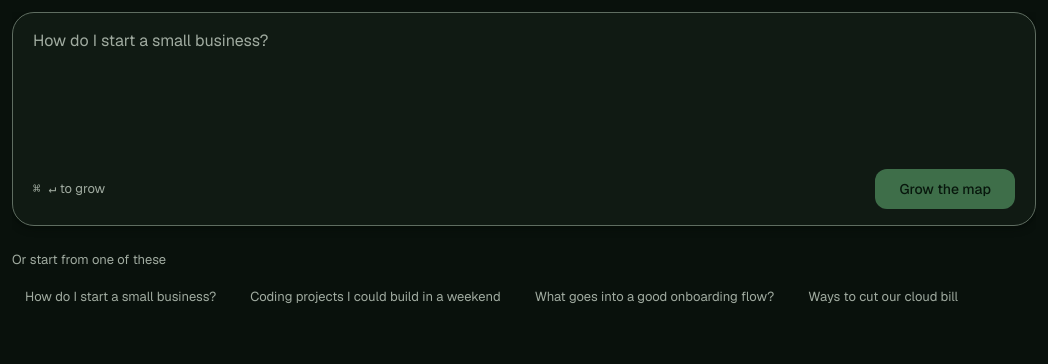
Test: AIMindmapInput › shows a known Convex generation error
Type "Plan a launch" into the text box.
click(524, 89); type("Plan a launch")  # box [13, 13, 1035, 165]
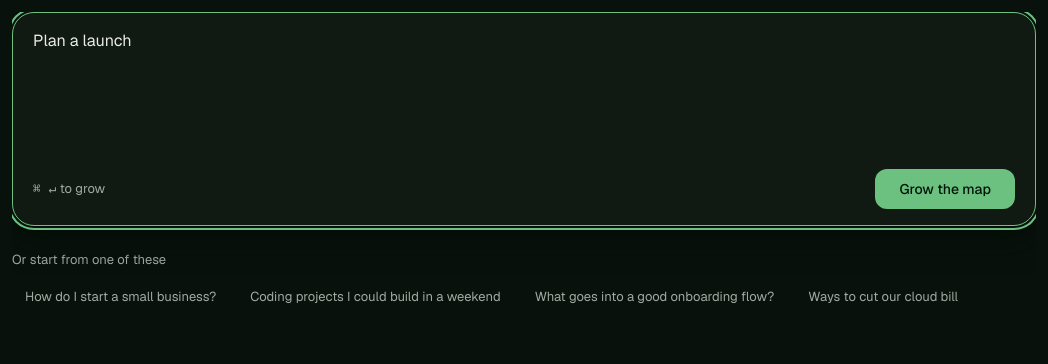
Click the button "Grow the map".
click(945, 189)  # box [876, 169, 1015, 209]
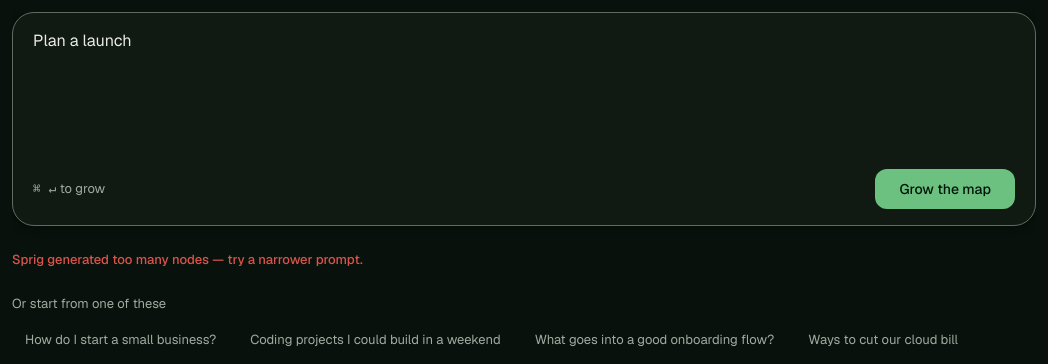
expect the message reads "Sprig generated too many nodes — try a narrower prompt.": met, box [12, 251, 363, 268]
